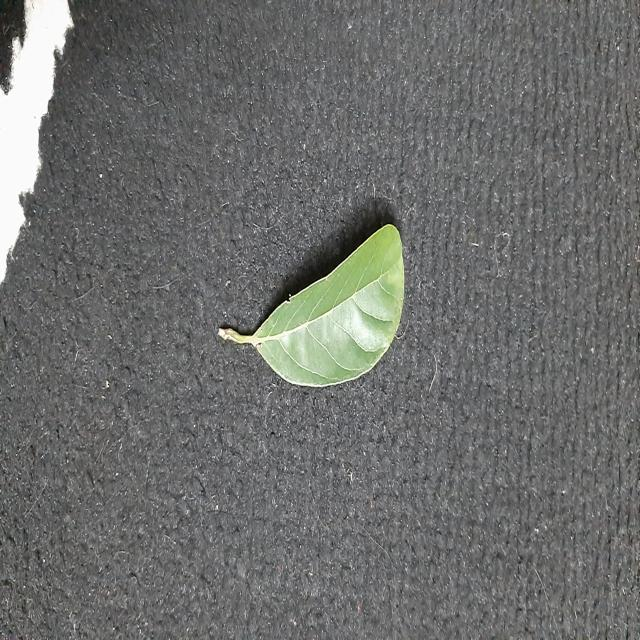seethaphala: (219, 225, 404, 387)
